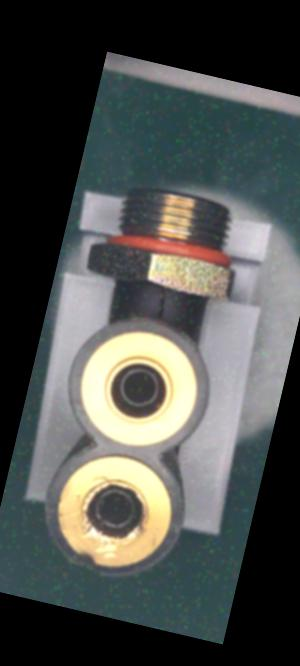bump: (62, 542, 107, 579)
craze: (146, 282, 177, 323)
